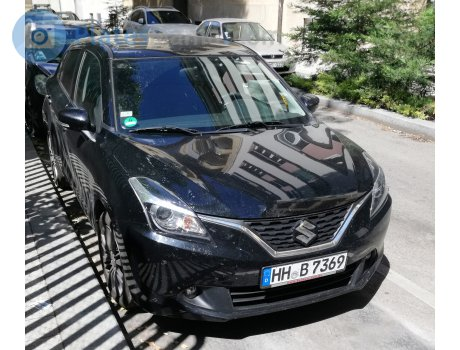License Plates: (279, 255, 340, 280), (275, 257, 283, 265)
